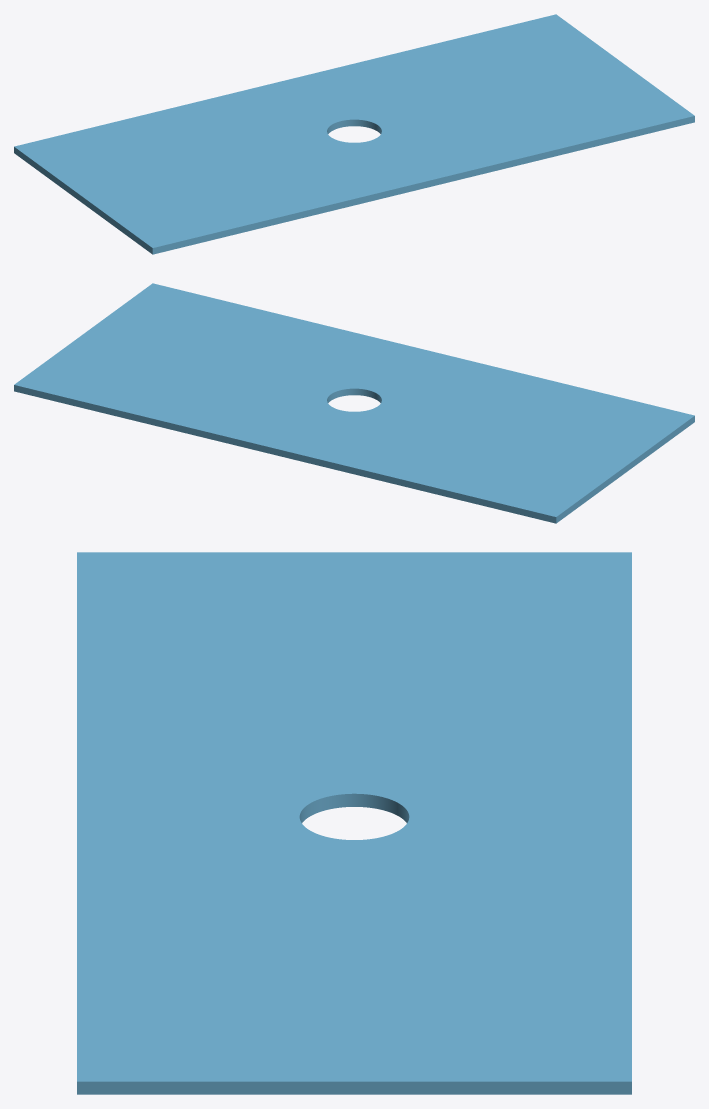
3 views of the same model, one above another, from view 1: azimuth 30°, elevation 25°; view 2: azimuth 150°, elevation 25°; view 3: azimuth 270°, elevation 25° (orthographic). The views are drawn at different scales.
Parts seen in each view (by area): view 1: G13_body; view 2: G13_body; view 3: G13_body.
Part boxes in pixels (x1,y1,x2,y2): G13_body: [14, 14, 694, 254]; G13_body: [14, 283, 694, 523]; G13_body: [77, 552, 631, 1094].
Bounding box in the file's own units: 158 × 1.82 × 69.85.
